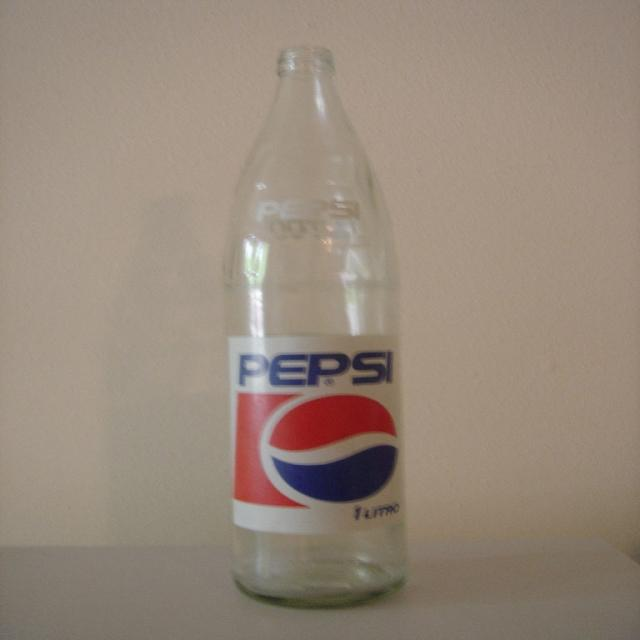pepsi: (262, 393, 403, 505)
